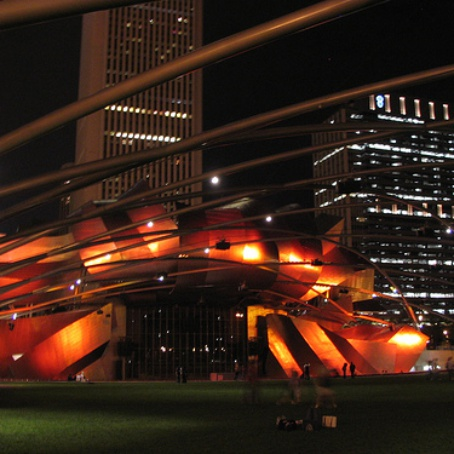building: (319, 93, 454, 333), (61, 2, 212, 204)
grass: (18, 379, 454, 454)
